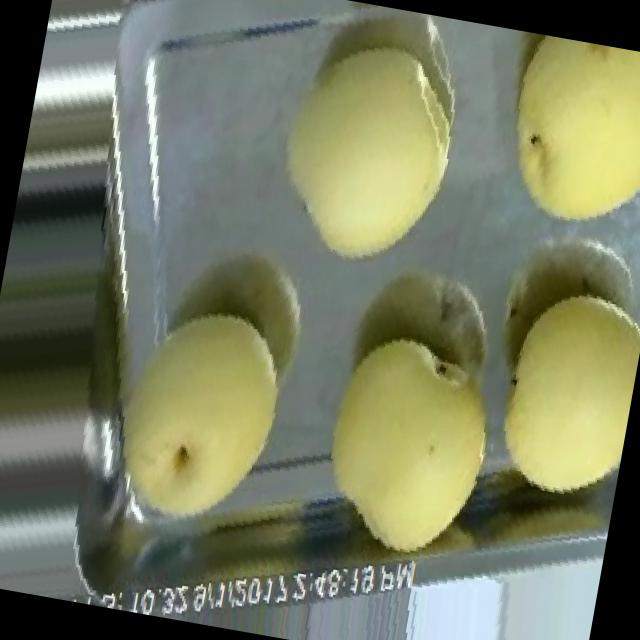Fruit: (230, 1, 501, 306), (67, 268, 320, 562), (284, 298, 538, 588), (452, 255, 640, 527), (462, 26, 640, 261)
